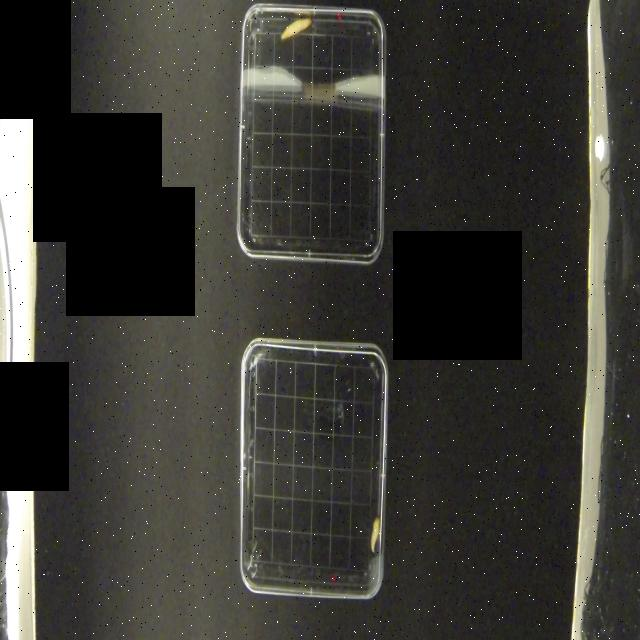larva: (280, 16, 312, 41), (366, 516, 382, 554)
